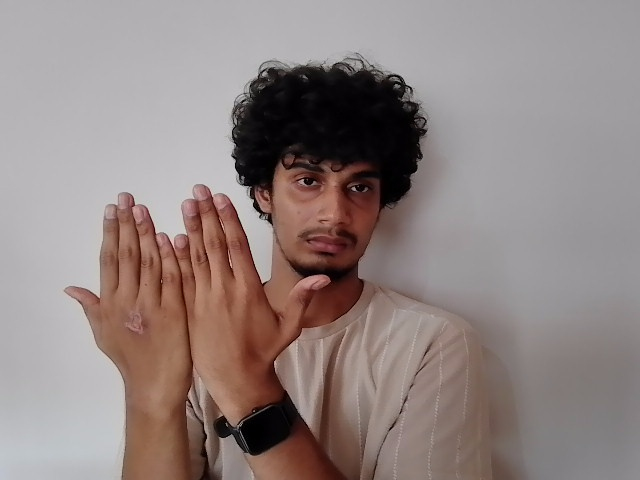school: (64, 185, 331, 388)
